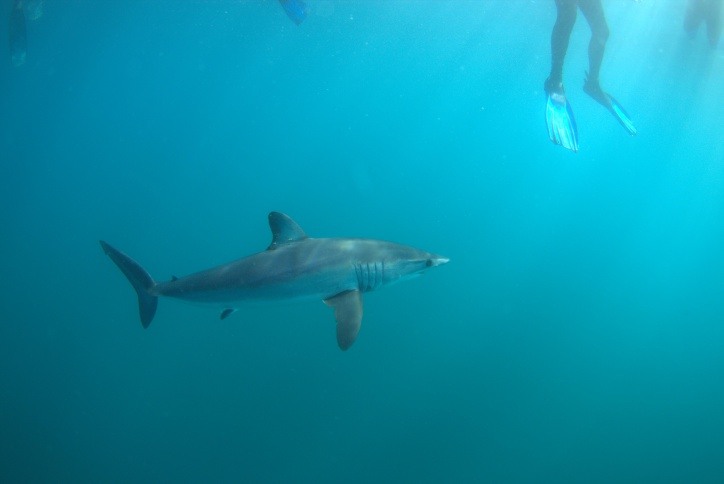Mako: (84, 204, 457, 356)
